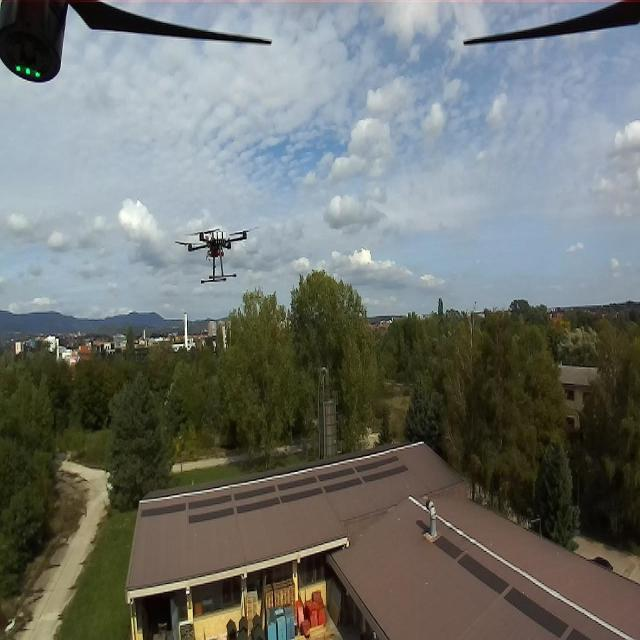drone: (0, 315, 640, 640)
